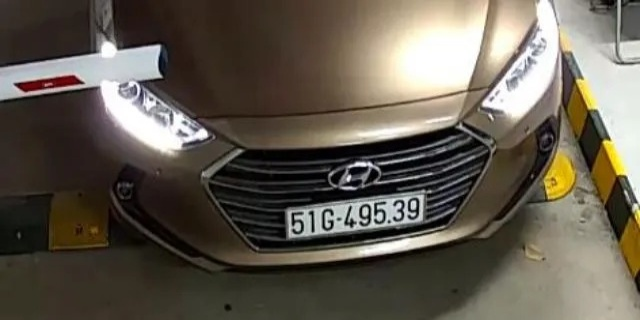bien_so: (287, 197, 424, 236)
